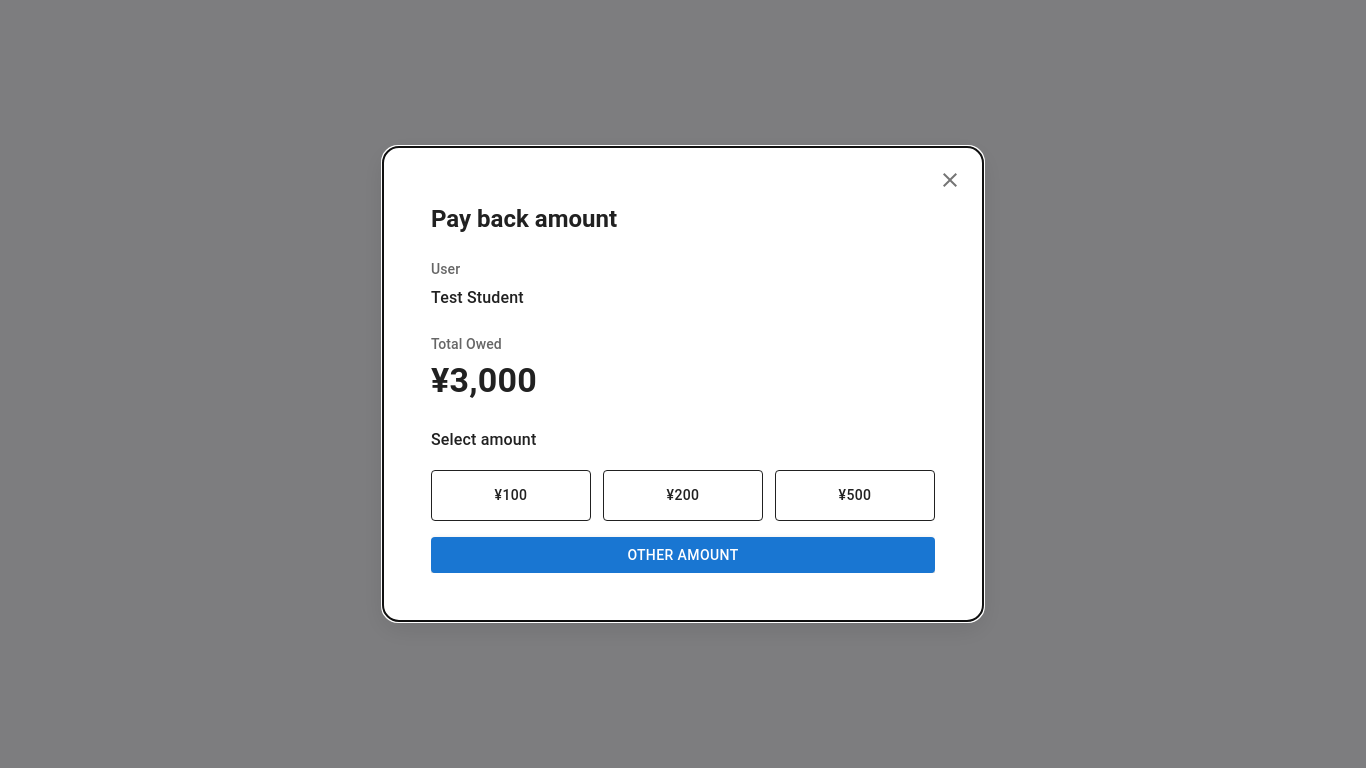
Test: PaybackModal › dismisses the error alert via its close button
Click the button "¥100" at (511, 496), box [431, 470, 591, 521]
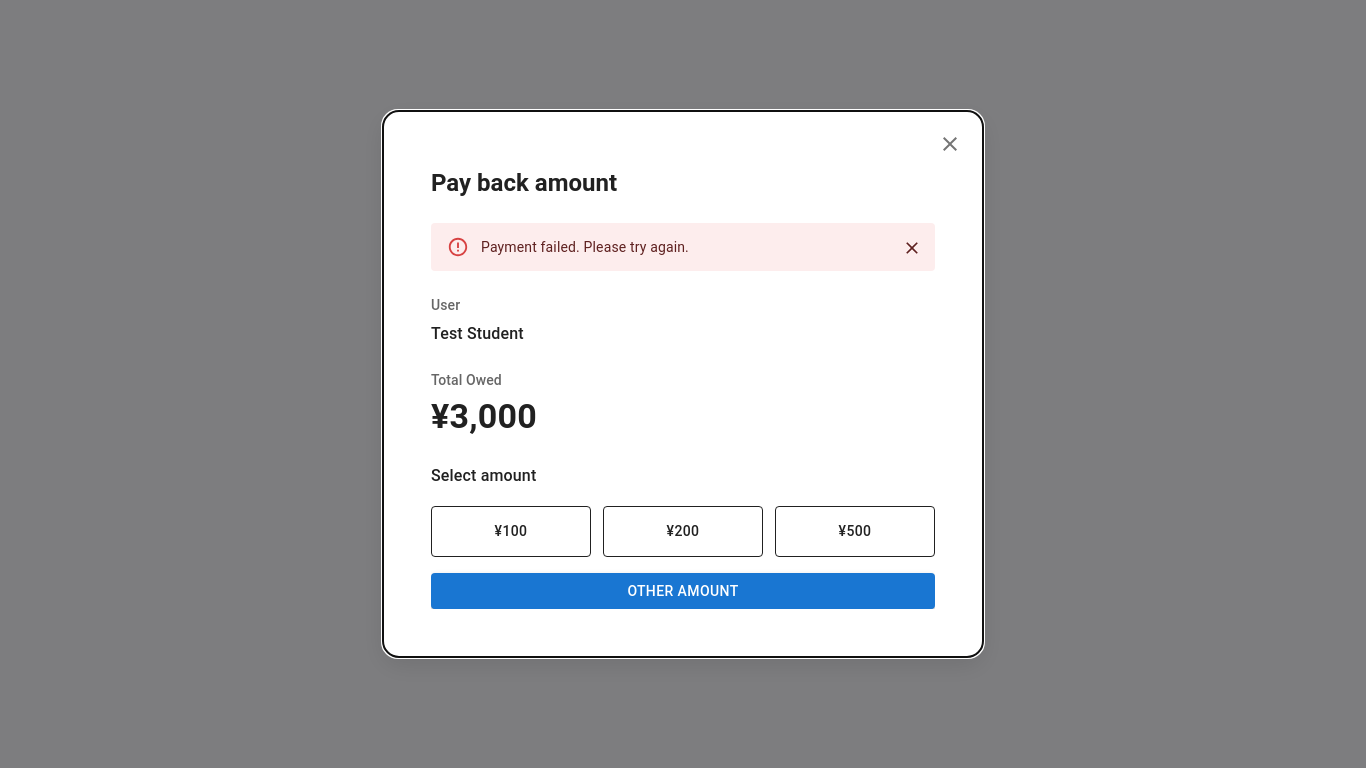
expect the message "Payment failed. Please try again." is shown: met, box [431, 223, 935, 271]
MUI Alert renders a close button with title "Close"
Click the button titled "Close" at (912, 248), box [897, 233, 927, 263]
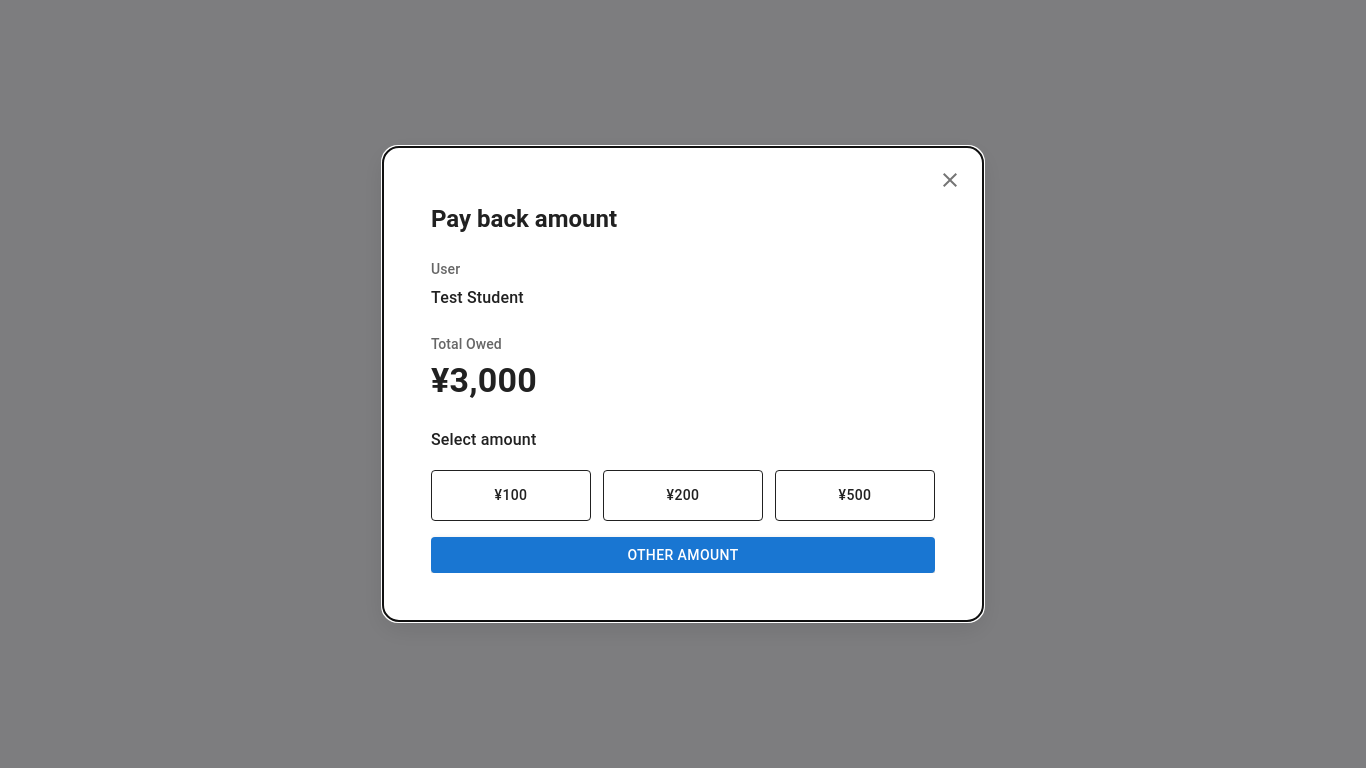
expect the message "Payment failed. Please try again." is gone: met
